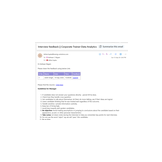

The page's visual inventory and layout, read from the dashboard file:
{"tool":"powerbi","page":{"name":"Page 1","canvas":[1280,720],"ordinal":0},"visuals":[{"type":"group","id":"g1","title":"Group 2","box":[321.7,0,943.3,249.2],"z":0},{"type":"cardVisual","fields":{"Data":["Course.Total Courses"]},"box":[321.9,0,237.7,124.9],"z":0,"group":"g1"},{"type":"slicer","fields":{"Values":["Trainer.TrainerName"]},"box":[34.3,174.2,279.7,150],"z":0,"group":"g2"},{"type":"cardVisual","fields":{"Data":["Course.Total Mocks"]},"box":[549.9,0,238.4,124.9],"z":1000,"group":"g1"},{"type":"textbox","box":[25.4,36.9,296.2,50.9],"z":1000},{"type":"slicer","fields":{"Values":["Course.CourseName"]},"box":[34.3,339.5,279.7,255.5],"z":1000,"group":"g2"},{"type":"cardVisual","fields":{"Data":["Course.Trainer-Course Validated"]},"box":[788.3,0,238.4,124.9],"z":2000,"group":"g1"},{"type":"group","id":"g2","title":"Group 1","box":[34.3,174.2,279.7,507.3],"z":2000},{"type":"slicer","fields":{"Values":["TrainerCourseMapping.MappingStatus"]},"box":[34.3,610.3,279.7,71.2],"z":2000,"group":"g2"},{"type":"cardVisual","fields":{"Data":["Course.Avg Mocks per Trainer-Course"]},"box":[1026.7,0,238.4,124.9],"z":3000,"group":"g1"},{"type":"pivotTable","fields":{"Rows":["Trainer.TrainerName","Course.CourseName"],"Values":["Course.Total Mocks","Course.Latest Activity Type","Course.Latest Mock Summary"]},"box":[338.2,249.2,942.1,443.7],"z":3000},{"type":"cardVisual","fields":{"Data":["Course.Latest Mock Rating"]},"box":[321.7,124.6,943.3,124.6],"z":4000,"group":"g1"}]}

Visuals, with their boxes on the page's 1280x720 design canvas (x1, y1, x2, y2). These are canvas units, not pixel positions in the 162x162 screenshot, which may show the page scaled, cropped or inside an application window:
"Group 2" group: l=322, t=0, r=1265, b=249
cardVisual - Course.Total Courses: l=322, t=0, r=560, b=125
slicer - Trainer.TrainerName: l=34, t=174, r=314, b=324
cardVisual - Course.Total Mocks: l=550, t=0, r=788, b=125
textbox: l=25, t=37, r=322, b=88
slicer - Course.CourseName: l=34, t=340, r=314, b=595
cardVisual - Course.Trainer-Course Validated: l=788, t=0, r=1027, b=125
"Group 1" group: l=34, t=174, r=314, b=682
slicer - TrainerCourseMapping.MappingStatus: l=34, t=610, r=314, b=682
cardVisual - Course.Avg Mocks per Trainer-Course: l=1027, t=0, r=1265, b=125
pivotTable - Trainer.TrainerName x Course.CourseName: l=338, t=249, r=1280, b=693
cardVisual - Course.Latest Mock Rating: l=322, t=125, r=1265, b=249
